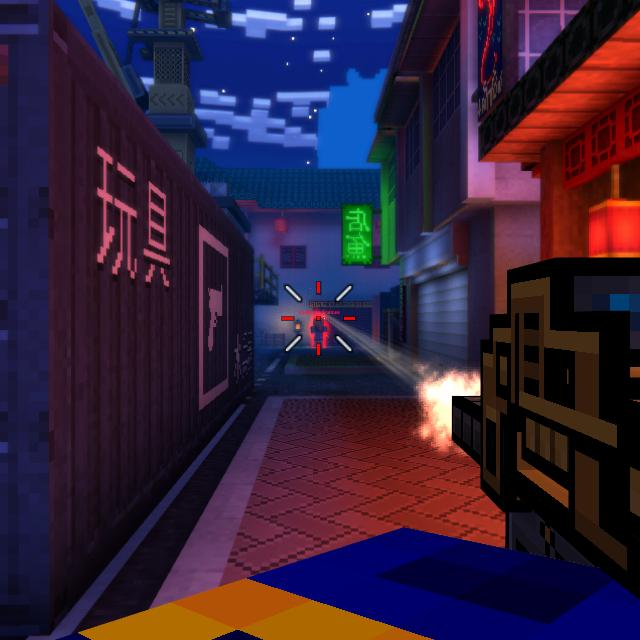Enemy: (311, 317, 328, 346)
